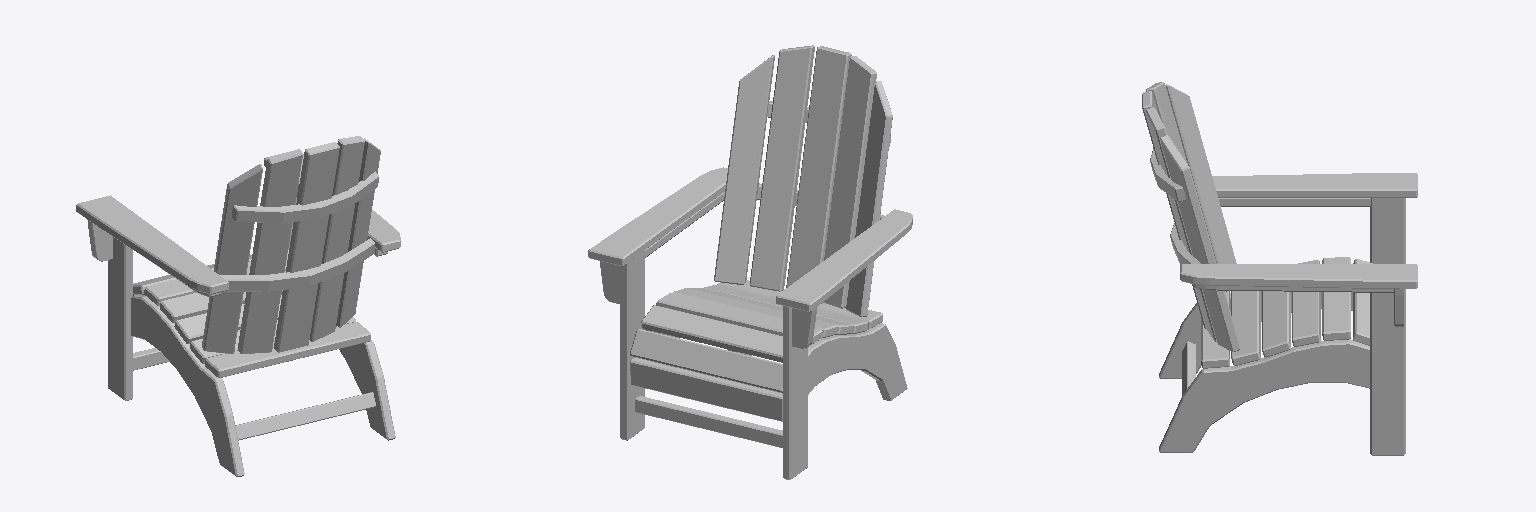
The model's file is chair.obj.
The picture shows the model from 3 angles: view 1: azimuth 30°, elevation 25°; view 2: azimuth 150°, elevation 25°; view 3: azimuth 270°, elevation 25°; orthographic projection.
Visible parts, largest first — view 1: chair; view 2: chair; view 3: chair.
Part boxes in pixels (x1,y1,x2,y2): chair: (76, 136, 400, 476); chair: (588, 45, 912, 479); chair: (1142, 82, 1417, 455).
Size of the model in its own units: 0.7046 by 0.9555 by 0.7531.